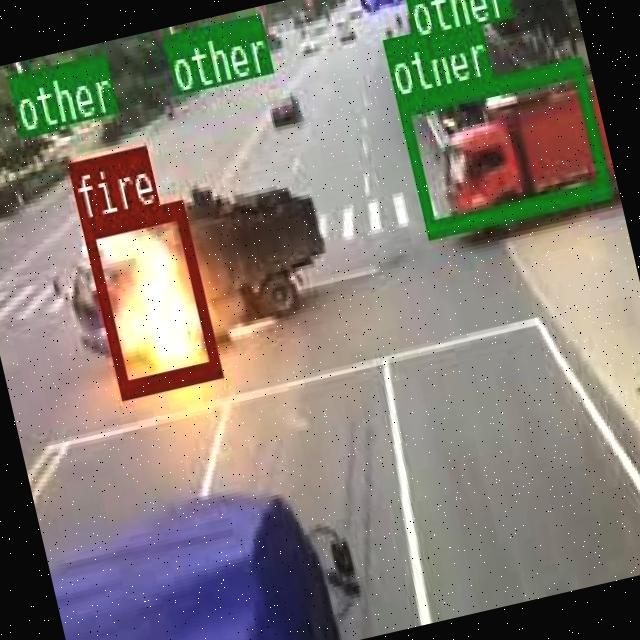fire: (80, 198, 218, 394)
